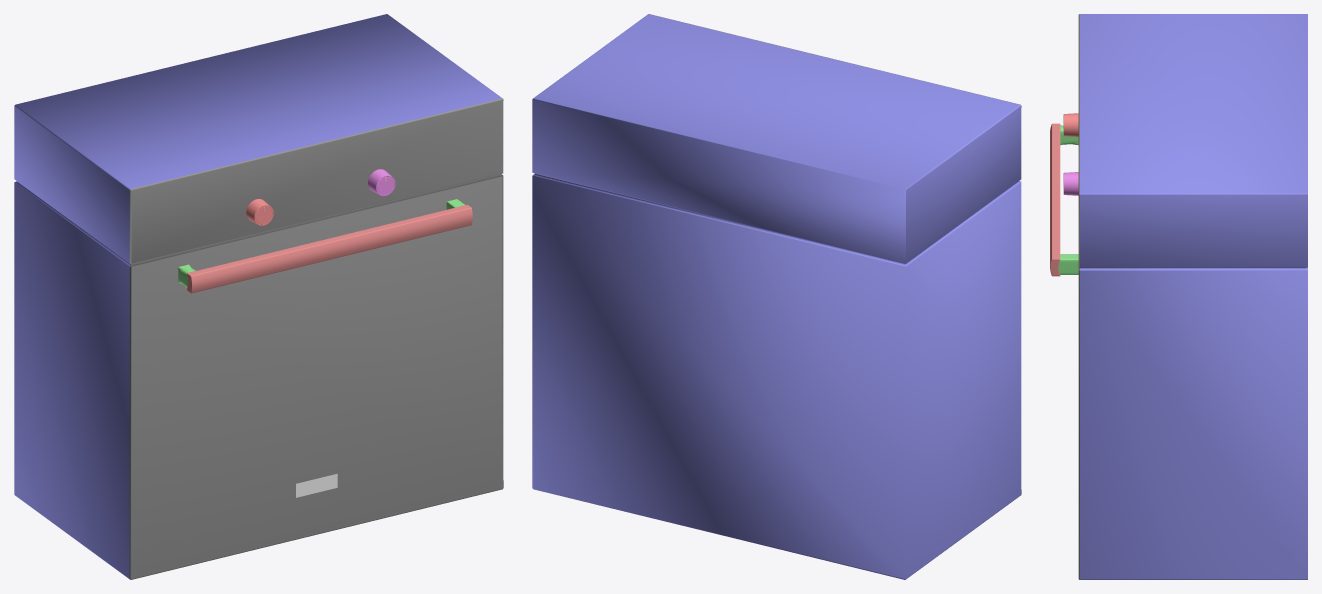
File: oven1.fbx
3 renders of one model, left to right at view 1: azimuth 30°, elevation 25°; view 2: azimuth 150°, elevation 25°; view 3: azimuth 270°, elevation 25°, orthographic.
Parts seen in each view (by area): view 1: oven1; view 2: oven1; view 3: oven1.
Part boxes in pixels (x1=…): oven1: x1=14, y1=14, x2=503, y2=579; oven1: x1=532, y1=14, x2=1021, y2=579; oven1: x1=1050, y1=14, x2=1307, y2=579.
Bounding box in the file's own units: 187 × 187 × 113.
